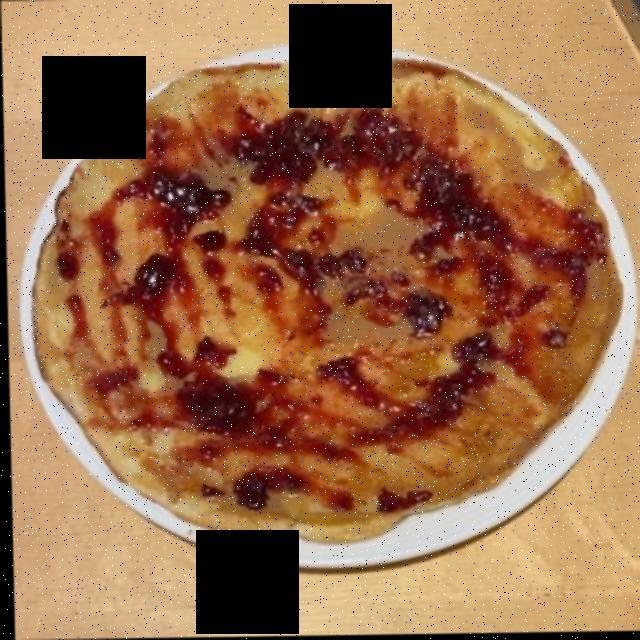butter: (310, 221, 452, 356)
crepe: (42, 56, 597, 523)
jam: (95, 93, 606, 485)
